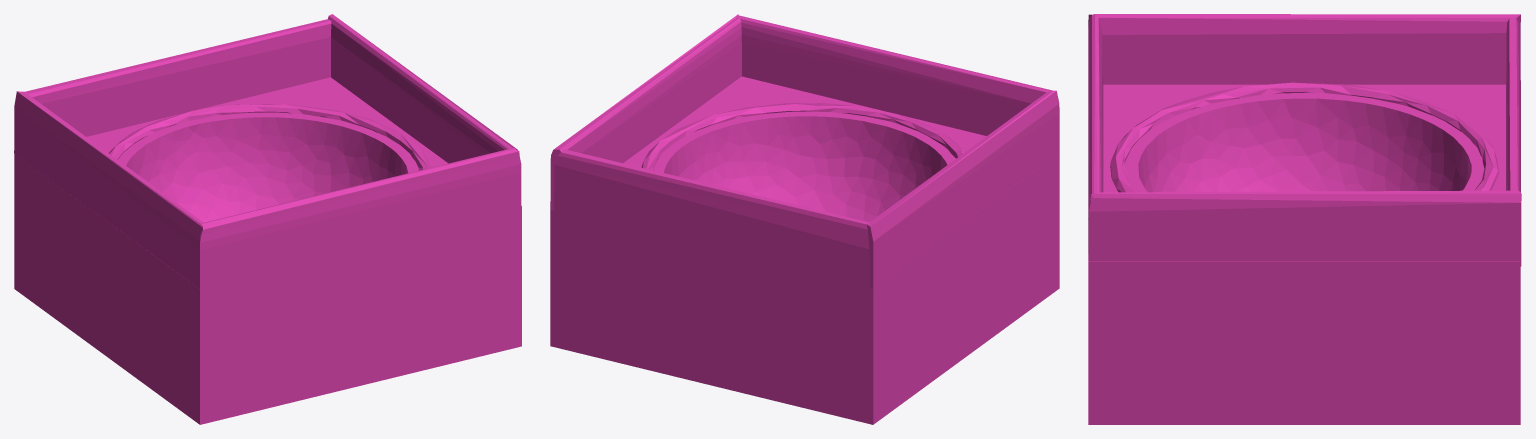
Rendered from cell1.fbx.
3 views of the same model, side by side, from view 1: azimuth 30°, elevation 25°; view 2: azimuth 150°, elevation 25°; view 3: azimuth 270°, elevation 25° (orthographic). The views are drawn at different scales.
Visible parts, largest first — view 1: Torus; view 2: Torus; view 3: Torus.
Part boxes in pixels (x1,y1,x2,y2): Torus: [14, 14, 521, 424]; Torus: [550, 14, 1059, 424]; Torus: [1088, 14, 1521, 424].
Size of the model in its own units: 350 by 206 by 351.
